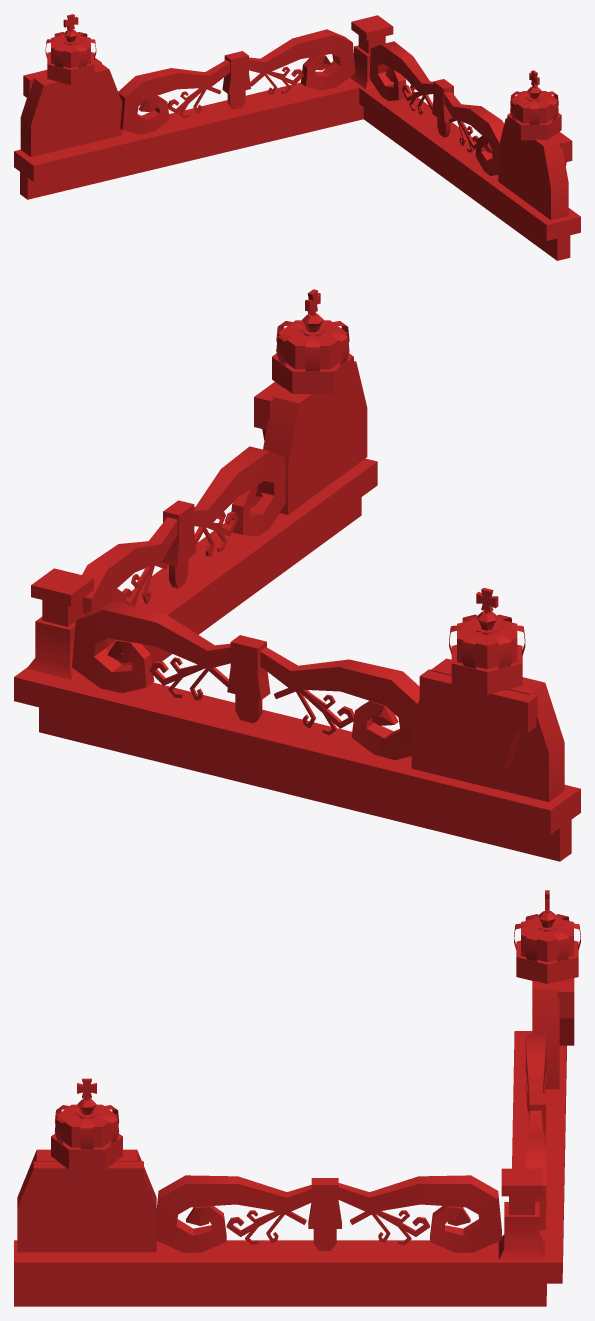
File: palace_roof_top_statue_C.fbx
The picture shows the model from 3 angles, top to bottom: view 1: azimuth 30°, elevation 25°; view 2: azimuth 150°, elevation 25°; view 3: azimuth 270°, elevation 25°; orthographic projection. The views are drawn at different scales.
Visible parts, largest first — view 1: roof_top_statue_C; view 2: roof_top_statue_C; view 3: roof_top_statue_C.
Part boxes in pixels (box(x1,y1,x2,y2)): roof_top_statue_C: box(14, 14, 580, 260); roof_top_statue_C: box(14, 289, 580, 861); roof_top_statue_C: box(14, 890, 580, 1306).
Bounding box in the file's own units: 243 × 108 × 249.
